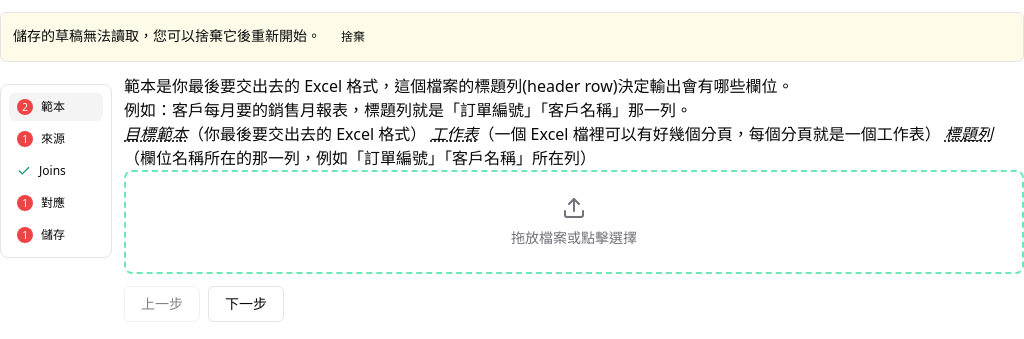
WizardPage › malformedDraftShowsRecoverableMessageAndDiscardReachesCleanState
expect the text "儲存的草稿無法讀取，您可以捨棄它後重新開始。" is shown: met, box [13,26,321,45]
Click the button "捨棄": (353, 37) [329,21,377,53]
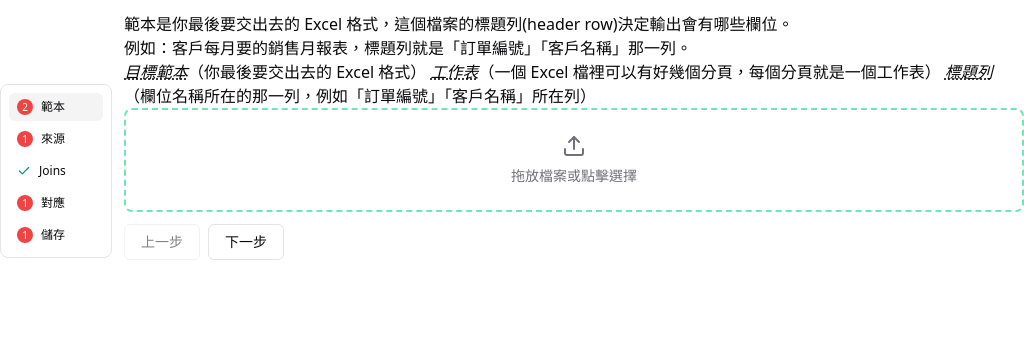
expect the text "儲存的草稿無法讀取，您可以捨棄它後重新開始。" is gone: met
